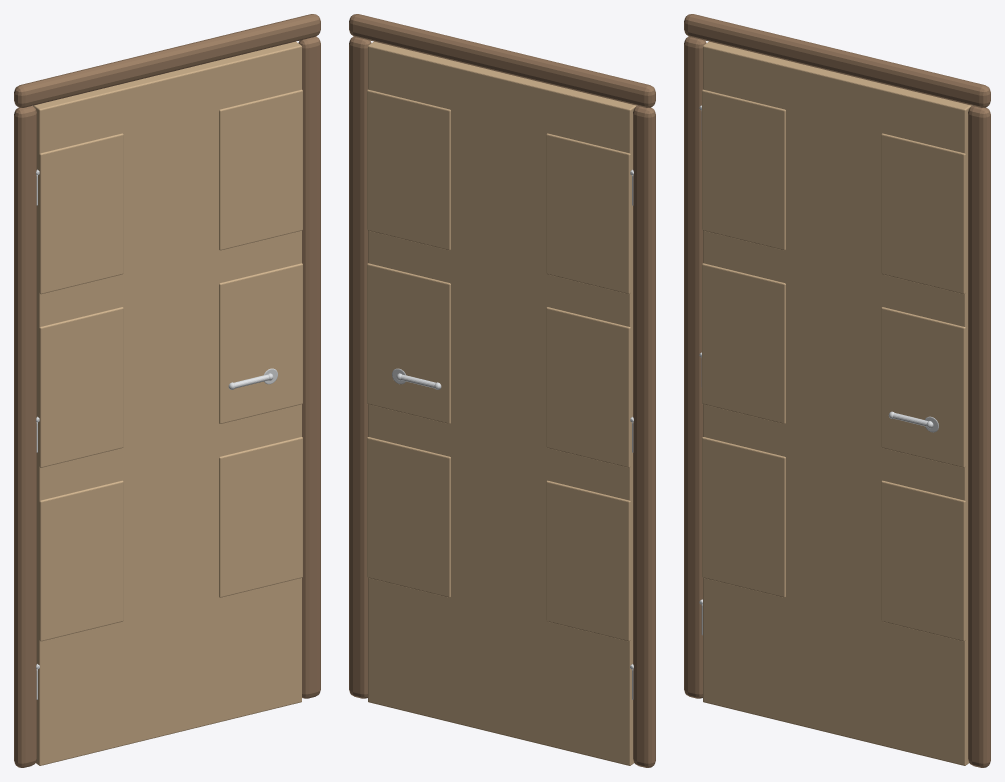
Rendered from door.glb.
3 renders of one model, left to right at view 1: azimuth 30°, elevation 25°; view 2: azimuth 150°, elevation 25°; view 3: azimuth 330°, elevation 25°, orthographic.
Visible parts, largest first — view 1: door_leaf, door_frame; view 2: door_leaf, door_frame; view 3: door_leaf, door_frame.
Boxes of the visible parts, x1,y1,x2,y2 form: door_leaf: [33, 41, 302, 765]; door_frame: [14, 14, 320, 767]; door_leaf: [367, 41, 636, 765]; door_frame: [349, 14, 655, 767]; door_leaf: [699, 41, 971, 765]; door_frame: [684, 14, 990, 767].
Bounding box in the file's own units: 1.02 × 2.18 × 0.0766.
